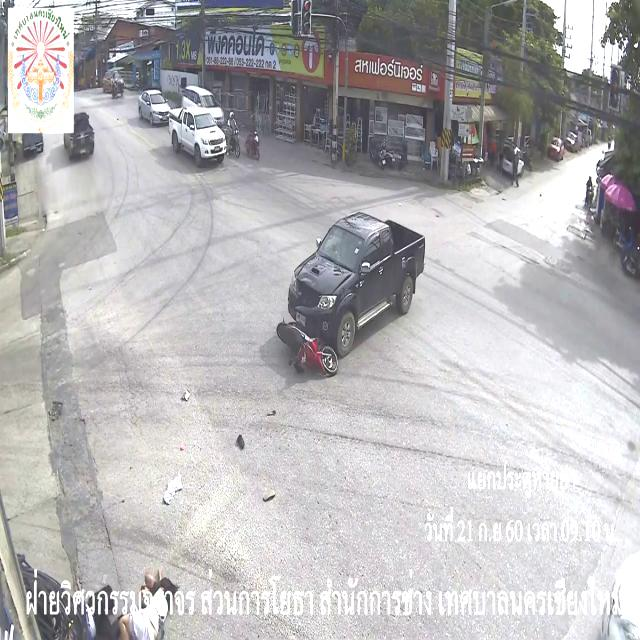accident: (271, 210, 429, 380)
non-accident: (138, 85, 262, 173), (168, 105, 245, 168), (545, 131, 583, 163)
